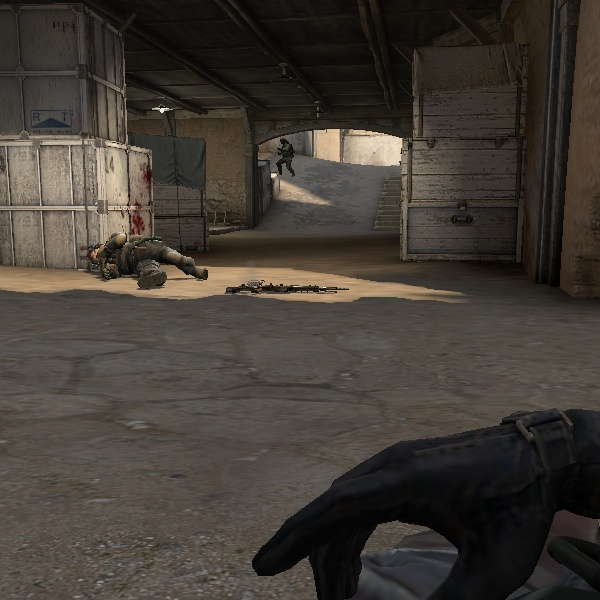ct_body: (273, 135, 296, 175)
ct_head: (277, 135, 290, 148)
